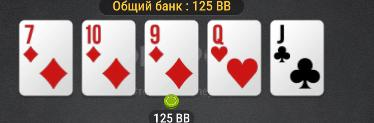10d: (83, 22, 133, 94)
7d: (21, 22, 71, 95)
9d: (146, 22, 197, 94)
Jc: (271, 21, 323, 94)
Qh: (209, 22, 261, 95)
